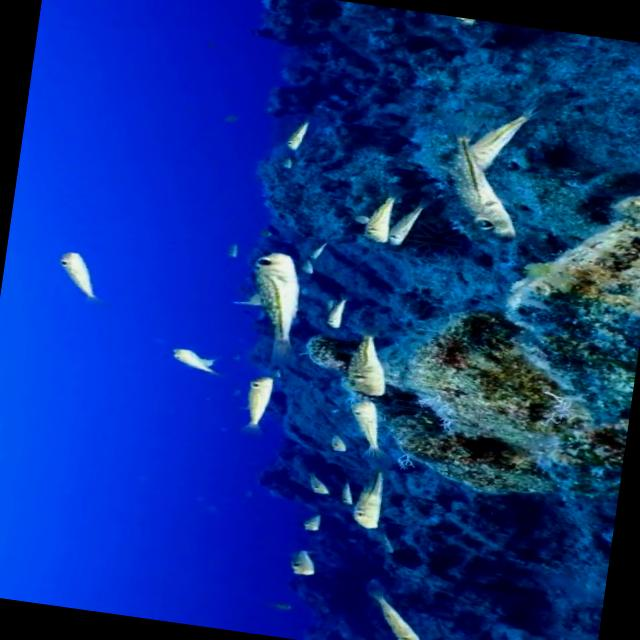Balon Baligi: (428, 124, 530, 246), (237, 250, 309, 348), (359, 581, 431, 640), (340, 468, 394, 536), (230, 369, 277, 436), (49, 245, 104, 299), (340, 395, 388, 451), (351, 190, 396, 247), (276, 110, 321, 159), (163, 342, 220, 377), (282, 545, 324, 580), (298, 464, 334, 498), (292, 512, 324, 534)
